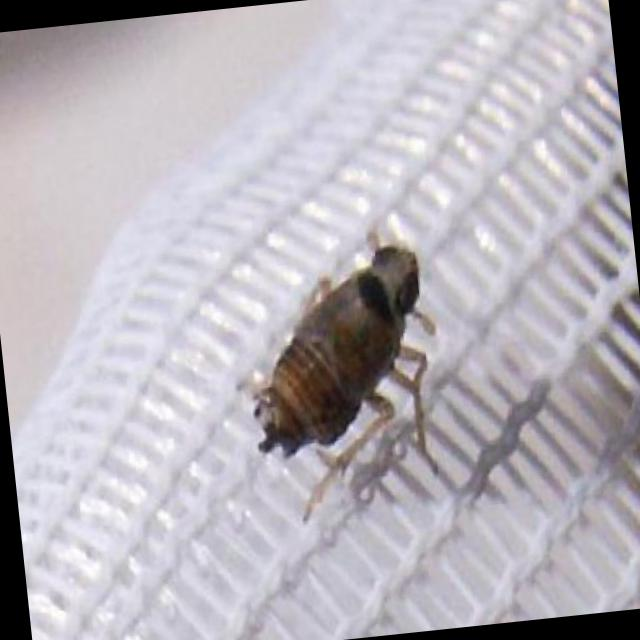brown-planthopper: (231, 228, 459, 482)
